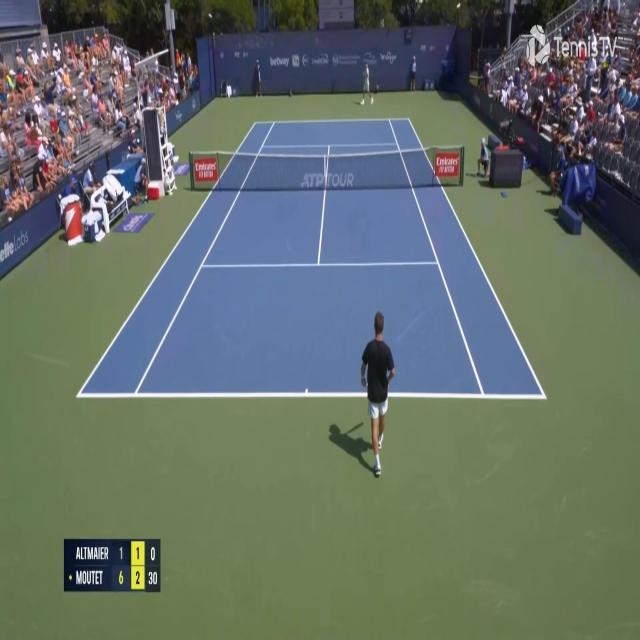tennis-player: (359, 309, 396, 476), (360, 64, 375, 107)
